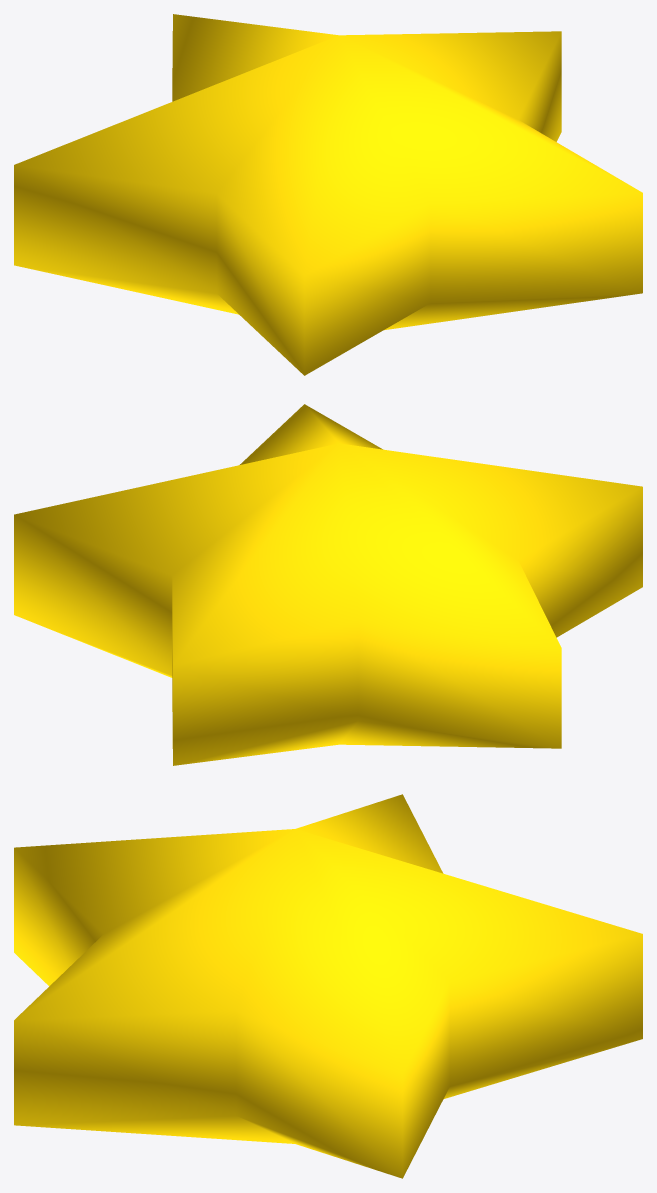
File: etoile.glb
The picture shows the model from 3 angles, top to bottom: view 1: azimuth 30°, elevation 25°; view 2: azimuth 150°, elevation 25°; view 3: azimuth 270°, elevation 25°; orthographic projection. The views are drawn at different scales.
Parts seen in each view (by area): view 1: Cylinder; view 2: Cylinder; view 3: Cylinder.
Boxes of the visible parts, x1=… form: Cylinder: x1=14, y1=14, x2=642, y2=375; Cylinder: x1=14, y1=404, x2=642, y2=765; Cylinder: x1=14, y1=794, x2=642, y2=1178.
Size of the model in its own units: 1.9 by 1 by 1.81.
